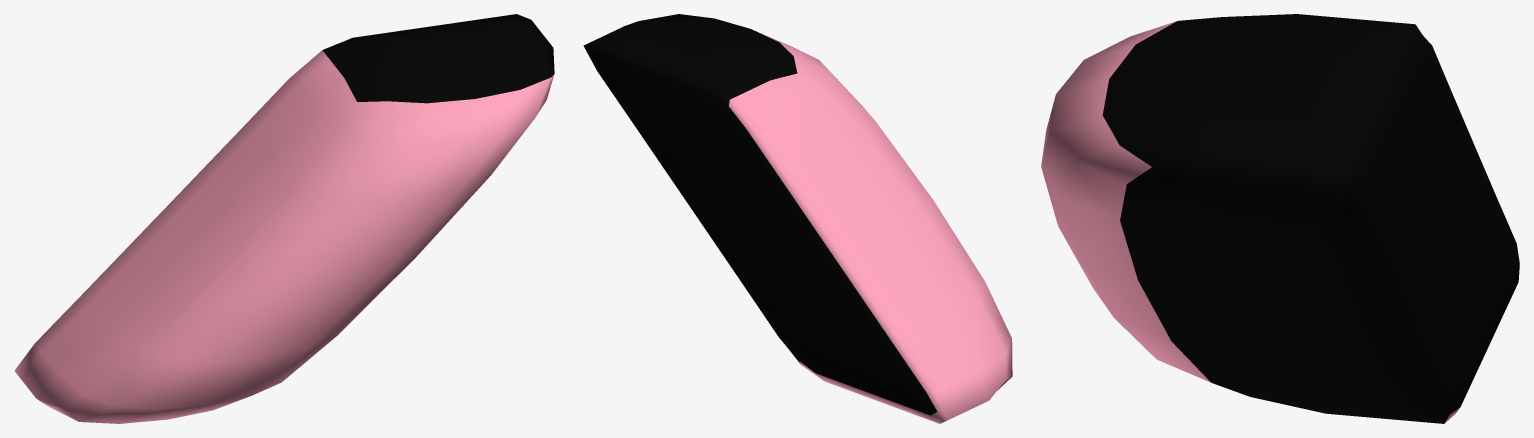
The picture shows the model from 3 angles, left to right: view 1: azimuth 30°, elevation 25°; view 2: azimuth 150°, elevation 25°; view 3: azimuth 270°, elevation 25°; orthographic projection. The views are drawn at different scales.
Visible parts, largest first — view 1: Box1250; view 2: Box1250; view 3: Box1250.
Boxes of the visible parts, bbox=[...] form: Box1250: bbox=[14, 14, 554, 423]; Box1250: bbox=[583, 14, 1012, 423]; Box1250: bbox=[1041, 14, 1519, 423].
Size of the model in its own units: 0.0615 by 0.0357 by 0.0308.
